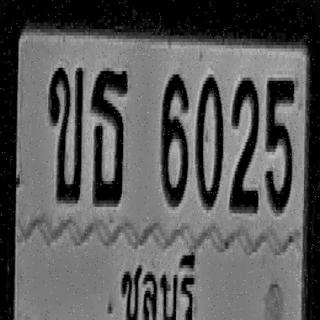A02: (48, 64, 83, 200)
A24: (91, 66, 128, 205)
N00: (196, 73, 223, 208)
N02: (230, 76, 258, 212)
N05: (266, 78, 294, 210)
N06: (161, 71, 188, 204)
P13: (116, 245, 198, 320)
